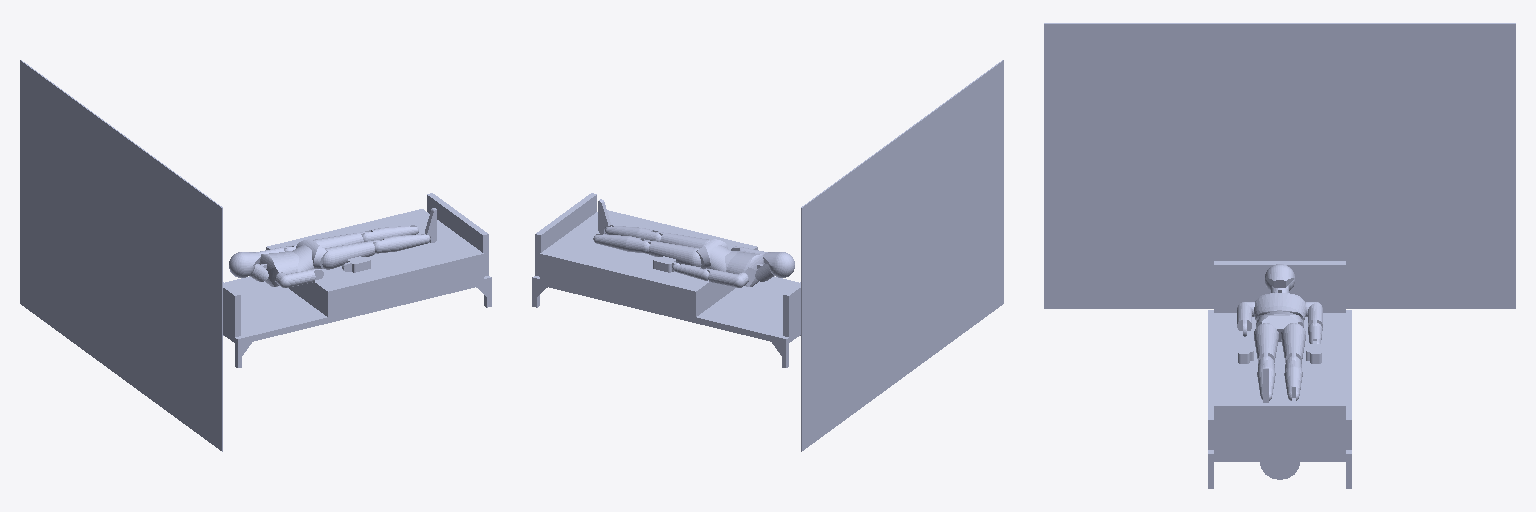
--- Render facts (derived) ---
Views: 3 orthographic renders of the robot side by side, from view 1: azimuth 30°, elevation 25°; view 2: azimuth 150°, elevation 25°; view 3: azimuth 270°, elevation 25°.
Robot: bed_and_body_v3_real_expanded — 26 links, 25 joints (20 revolute, 3 prismatic, 2 fixed); root link base_link; default pose: every joint at zero.
Links seen in each view (by area): view 1: wall_link, bed_frame_link, leg_rest_lower_link, leg_rest_upper_link, quad_right_link, upper_body_link, calf_right_link, head_link, arm_right_link, calf_left_link; view 2: wall_link, bed_frame_link, leg_rest_lower_link, leg_rest_upper_link, upper_body_link, quad_left_link, calf_left_link, head_link, calf_right_link, arm_left_link; view 3: wall_link, bed_frame_link, leg_rest_lower_link, leg_rest_upper_link, upper_body_link, quad_left_link, quad_right_link, calf_left_link, head_link.
Boxes of the visible links, left/top/right/bottom form: wall_link: left=20, top=60, right=222, bottom=451; bed_frame_link: left=223, top=193, right=491, bottom=367; leg_rest_lower_link: left=342, top=209, right=483, bottom=298; leg_rest_upper_link: left=300, top=228, right=403, bottom=308; quad_right_link: left=322, top=240, right=379, bottom=269; upper_body_link: left=259, top=251, right=298, bottom=286; calf_right_link: left=374, top=234, right=430, bottom=253; head_link: left=229, top=252, right=260, bottom=277; arm_right_link: left=275, top=269, right=323, bottom=287; calf_left_link: left=362, top=225, right=418, bottom=241; wall_link: left=801, top=60, right=1003, bottom=451; bed_frame_link: left=532, top=193, right=800, bottom=367; leg_rest_lower_link: left=540, top=210, right=681, bottom=298; leg_rest_upper_link: left=620, top=228, right=723, bottom=308; upper_body_link: left=725, top=251, right=764, bottom=286; quad_left_link: left=644, top=240, right=701, bottom=266; calf_left_link: left=593, top=234, right=649, bottom=253; head_link: left=763, top=252, right=794, bottom=277; calf_right_link: left=605, top=225, right=661, bottom=241; arm_left_link: left=703, top=269, right=748, bottom=287; wall_link: left=1044, top=23, right=1515, bottom=308; bed_frame_link: left=1208, top=261, right=1351, bottom=488; leg_rest_lower_link: left=1208, top=374, right=1351, bottom=449; leg_rest_upper_link: left=1208, top=350, right=1351, bottom=373; upper_body_link: left=1254, top=293, right=1305, bottom=322; quad_left_link: left=1281, top=323, right=1305, bottom=362; quad_right_link: left=1254, top=323, right=1278, bottom=362; calf_left_link: left=1284, top=356, right=1302, bottom=400; head_link: left=1265, top=264, right=1294, bottom=290.
Size in the robot's own frame: 2.92 by 3 by 2 metres.
Meshes: 24 distinct files referenced, 19 mesh visuals loaded (19 binary STL); not drawn: 5 (reference not matched to a file when rendering).

The robot description file, URDF, robot "bed_and_body_v3_real_expanded":
<?xml version="1.0"?>
<robot
  name="bed_and_body_v3_real_expanded">
  <link
    name="base_link">
    <inertial>
      <origin
        xyz="1.07 -1.1433776843867E-16 0.0654891108010717"
        rpy="0 0 0" />
      <mass
        value="5.8260172808288" />
      <inertia
        ixx="1.14927006759014"
        ixy="4.44089209850063E-16"
        ixz="-2.75515108570424E-16"
        iyy="6.70434113225239"
        iyz="-1.34851165646458E-15"
        izz="7.79754704731756" />
    </inertial>
    <visual>
      <origin
        xyz="0 0 0"
        rpy="0 0 0" />
      <geometry>
        <mesh
          filename="package://hrl_base_selection/urdf/bed_and_body_v3_real_expanded/meshes/base_link.STL" />
      </geometry>
      <material
        name="">
        <color
          rgba="0.792156862745098 0.819607843137255 0.933333333333333 1" />
      </material>
    </visual>
    <collision>
      <origin
        xyz="0 0 0"
        rpy="0 0 0" />
      <geometry>
        <mesh
          filename="package://hrl_base_selection/urdf/bed_and_body_v3_real_expanded/meshes/base_link.STL" />
      </geometry>
    </collision>
  </link>
  <link
    name="wall_link">
    <inertial>
      <origin
        xyz="0. 0. 0."
        rpy="0 0 0" />
      <mass
        value="182.783" />
      <inertia
        ixx="14.1727036705024"
        ixy="3.00274731894519E-14"
        ixz="-0.582878793213973"
        iyy="75.8057802285568"
        iyz="9.93663151183257E-16"
        izz="86.6905817538877" />
    </inertial>
    <visual>
      <origin
        xyz="0 0 0"
        rpy="0 0 0" />
      <geometry>
        <mesh
          filename="package://hrl_base_selection/urdf/bed_and_body_v3_real_expanded/meshes/wall.stl" />
      </geometry>
      <material
        name="">
        <color
          rgba="0.792156862745098 0.819607843137255 0.933333333333333 1" />
      </material>
    </visual>
    <collision>
      <origin
        xyz="0 0 0"
        rpy="0 0 0" />
      <geometry>
        <mesh
          filename="package://hrl_base_selection/urdf/bed_and_body_v3_real_expanded/meshes/wall.stl" />
      </geometry>
    </collision>
  </link>
  <joint
    name="origin_wall_joint"
    type="fixed">
    <origin
      xyz="-0.75 0. 0."
      rpy="0 0 0" />
    <parent
      link="base_link" />
    <child
      link="wall_link" />
    <axis
      xyz="0 0 0" />
  </joint>
  <link
    name="bed_frame_link">
    <inertial>
      <origin
        xyz="1.0399 -0.27375 0.088166"
        rpy="0 0 0" />
      <mass
        value="182.783" />
      <inertia
        ixx="14.1727036705024"
        ixy="3.00274731894519E-14"
        ixz="-0.582878793213973"
        iyy="75.8057802285568"
        iyz="9.93663151183257E-16"
        izz="86.6905817538877" />
    </inertial>
    <visual>
      <origin
        xyz="0 0 0"
        rpy="0 0 0" />
      <geometry>
        <mesh
          filename="package://hrl_base_selection/urdf/bed_and_body_v3_real_expanded/meshes/bed_frame_link.STL" />
      </geometry>
      <material
        name="">
        <color
          rgba="0.792156862745098 0.819607843137255 0.933333333333333 1" />
      </material>
    </visual>
    <collision>
      <origin
        xyz="0 0 0"
        rpy="0 0 0" />
      <geometry>
        <mesh
          filename="package://hrl_base_selection/urdf/bed_and_body_v3_real_expanded/meshes/bed_frame_link.STL" />
      </geometry>
    </collision>
  </link>
  <joint
    name="tele_legs_joint"
    type="prismatic">
    <origin
      xyz="-0.02 .27375 0.2805"
      rpy="0 0 0" />
    <parent
      link="base_link" />
    <child
      link="bed_frame_link" />
    <axis
      xyz="0 0 1" />
    <limit
      lower="-1"
      upper="1"
      effort="0"
      velocity="0" />
  </joint>
  <link
    name="head_rest_link">
    <inertial>
      <origin
        xyz="0.372569569871449 -0.0933538492374752 -3.9665323774659E-16"
        rpy="0 0 0" />
      <mass
        value="152.153755040103" />
      <inertia
        ixx="11.3335835372931"
        ixy="0.223420816611719"
        ixz="-1.53371591687193E-15"
        iyy="16.9421346103201"
        iyz="-3.30400962622086E-15"
        izz="7.04456355370477" />
    </inertial>
    <visual>
      <origin
        xyz="0 0 0"
        rpy="0 0 0" />
      <geometry>
        <mesh
          filename="package://hrl_base_selection/urdf/bed_and_body_v3_real_expanded/meshes/head_rest_link.STL" />
      </geometry>
      <material
        name="">
        <color
          rgba="0.792156862745098 0.819607843137255 0.933333333333333 1" />
      </material>
    </visual>
    <collision>
      <origin
        xyz="0 0 0"
        rpy="0 0 0" />
      <geometry>
        <mesh
          filename="package://hrl_base_selection/urdf/bed_and_body_v3_real_expanded/meshes/head_rest_link.STL" />
      </geometry>
    </collision>
  </link>
  <joint
    name="head_rest_hinge"
    type="revolute">
    <origin
      xyz="0.775 -.27375 0.26"
      rpy="1.5708 1.0561E-10 3.1416" />
    <parent
      link="bed_frame_link" />
    <child
      link="head_rest_link" />
    <axis
      xyz="0 0 1" />
    <limit
      lower="-2"
      upper="2"
      effort="0"
      velocity="0" />
  </joint>
  <link
    name="head_updown_translation_link">
    <inertial>
      <origin
        xyz="0.102906766161206 -9.91266292424373E-09 -0.0297782124304694"
        rpy="0 0 0" />
      <mass
        value="3.9328527892651" />
      <inertia
        ixx="0.0179544834914724"
        ixy="-5.43457600009831E-10"
        ixz="-0.00240657860486129"
        iyy="0.0177023015774365"
        iyz="-5.46748238349167E-09"
        izz="0.0152180232656692" />
    </inertial>
  </link>
  <joint
    name="head_bed_updown_joint"
    type="prismatic">
    <origin
      xyz="0.49949 0.05 0"
      rpy="1.5708 -2.9674E-16 1.5708" />
    <parent
      link="head_rest_link" />
    <child
      link="head_updown_translation_link" />
    <axis
      xyz="0 0 -1" />
    <limit
      lower="-2"
      upper="2"
      effort="0"
      velocity="0" />
  </joint>
  <link
    name="head_leftright_translation_link">
    <inertial>
      <origin
        xyz="0.102906766161206 0.0297782124304694 -9.912662920814E-09"
        rpy="0 0 0" />
      <mass
        value="3.9328527892651" />
      <inertia
        ixx="0.0179544834914724"
        ixy="0.00240657860486129"
        ixz="-5.43457600415785E-10"
        iyy="0.0152180232656692"
        iyz="5.46748238053038E-09"
        izz="0.0177023015774365" />
    </inertial>
  </link>
  <joint
    name="head_bed_leftright_joint"
    type="prismatic">
    <origin
      xyz="0 0 0"
      rpy="-1.5708 -1.0548E-16 7.5835E-18" />
    <parent
      link="head_updown_translation_link" />
    <child
      link="head_leftright_translation_link" />
    <axis
      xyz="0 0 1" />
    <limit
      lower="-2"
      upper="2"
      effort="0"
      velocity="0" />
  </joint>
  <link
    name="head_link">
    <inertial>
      <origin
        xyz="0.00931747164111318 -9.91266701204326E-09 0.0105706865051194"
        rpy="0 0 0" />
      <mass
        value="3.9328527892651" />
      <inertia
        ixx="0.0165678861121358"
        ixy="8.90148620513218E-10"
        ixz="-0.0027682732644648"
        iyy="0.0177023015774365"
        iyz="-5.42183952528328E-09"
        izz="0.0166046206450058" />
    </inertial>
    <visual>
      <origin
        xyz="0 0 0"
        rpy="0 0 0" />
      <geometry>
        <mesh
          filename="package://hrl_base_selection/urdf/bed_and_body_v3_real_expanded/meshes/head_link.STL" />
      </geometry>
      <material
        name="">
        <color
          rgba="0.792156862745098 0.819607843137255 0.933333333333333 1" />
      </material>
    </visual>
    <collision>
      <origin
        xyz="0 0 0"
        rpy="0 0 0" />
      <geometry>
        <mesh
          filename="package://hrl_base_selection/urdf/bed_and_body_v3_real_expanded/meshes/head_link.STL" />
      </geometry>
    </collision>
  </link>
  <joint
    name="head_contact_to_head_center"
    type="fixed">
    <origin
      xyz="0.091171 0.037577 0"
      rpy="1.5708 -3.0499E-16 0.2618" />
    <parent
      link="head_leftright_translation_link" />
    <child
      link="head_link" />
    <axis
      xyz="0 0 0" />
  </joint>
  <link
    name="neck_rotation">
    <inertial>
      <origin
        xyz="0.0299911113671753 -1.13479703411912E-09 5.25989263663437E-09"
        rpy="0 0 0" />
      <mass
        value="1.53148702191926" />
      <inertia
        ixx="0.00269322706497261"
        ixy="1.09857620830128E-10"
        ixz="7.58048241070777E-10"
        iyy="0.00564516811473134"
        iyz="9.21844170034423E-09"
        izz="0.00511128582091916" />
    </inertial>
    <visual>
      <origin
        xyz="0 0 0"
        rpy="0 0 0" />
      <geometry>
        <mesh
          filename="package://hrl_base_selection/urdf/bed_and_body_v3_real_expanded/meshes/neck_rotation.STL" />
      </geometry>
      <material
        name="">
        <color
          rgba="0.792156862745098 0.819607843137255 0.933333333333333 1" />
      </material>
    </visual>
    <collision>
      <origin
        xyz="0 0 0"
        rpy="0 0 0" />
      <geometry>
        <mesh
          filename="package://hrl_base_selection/urdf/bed_and_body_v3_real_expanded/meshes/neck_rotation.STL" />
      </geometry>
    </collision>
  </link>
  <joint
    name="head_neck_joint1"
    type="revolute">
    <origin
      xyz="-0.0254 0 -0.08509"
      rpy="-1.5708 1.1345 -3.1416" />
    <parent
      link="head_link" />
    <child
      link="neck_rotation" />
    <axis
      xyz="0 0 1" />
    <limit
      lower="-2"
      upper="2"
      effort="0"
      velocity="0" />
  </joint>
  <link
    name="neck_link">
    <inertial>
      <origin
        xyz="0.0299911113671752 -1.13479703411912E-09 5.2598925958448E-09"
        rpy="0 0 0" />
      <mass
        value="1.53148702191926" />
      <inertia
        ixx="0.00269322706497261"
        ixy="1.09857618011203E-10"
        ixz="7.58048239319453E-10"
        iyy="0.00564516811473135"
        iyz="9.2184417026311E-09"
        izz="0.00511128582091917" />
    </inertial>
    <visual>
      <origin
        xyz="0 0 0"
        rpy="0 0 0" />
      <geometry>
        <mesh
          filename="package://hrl_base_selection/urdf/bed_and_body_v3_real_expanded/meshes/neck_link.STL" />
      </geometry>
      <material
        name="">
        <color
          rgba="0.792156862745098 0.819607843137255 0.933333333333333 1" />
      </material>
    </visual>
    <collision>
      <origin
        xyz="0 0 0"
        rpy="0 0 0" />
      <geometry>
        <mesh
          filename="package://hrl_base_selection/urdf/bed_and_body_v3_real_expanded/meshes/neck_link.STL" />
      </geometry>
    </collision>
  </link>
  <joint
    name="head_neck_joint2"
    type="revolute">
    <origin
      xyz="0 0 0"
      rpy="0 3.1554E-30 0" />
    <parent
      link="neck_rotation" />
    <child
      link="neck_link" />
    <axis
      xyz="0 0 1" />
    <limit
      lower="-2"
      upper="2"
      effort="0"
      velocity="0" />
  </joint>
  <link
    name="upper_body_link">
    <inertial>
      <origin
        xyz="0.158709266111028 -2.77439784790445E-06 1.07349517852832E-06"
        rpy="0 0 0" />
      <mass
        value="10.994324812456" />
      <inertia
        ixx="0.0988263493770442"
        ixy="1.38503182626169E-06"
        ixz="-6.9051458787949E-07"
        iyy="0.107887273916327"
        iyz="1.87457468166473E-07"
        izz="0.0771158536159493" />
    </inertial>
    <visual>
      <origin
        xyz="0 0 0"
        rpy="0 0 0" />
      <geometry>
        <mesh
          filename="package://hrl_base_selection/urdf/bed_and_body_v3_real_expanded/meshes/upper_body_link.STL" />
      </geometry>
      <material
        name="">
        <color
          rgba="0.792156862745098 0.819607843137255 0.933333333333333 1" />
      </material>
    </visual>
    <collision>
      <origin
        xyz="0 0 0"
        rpy="0 0 0" />
      <geometry>
        <mesh
          filename="package://hrl_base_selection/urdf/bed_and_body_v3_real_expanded/meshes/upper_body_link.STL" />
      </geometry>
    </collision>
  </link>
  <joint
    name="neck_body_joint"
    type="revolute">
    <origin
      xyz="0.07239 0 0"
      rpy="-8.8242E-17 -8.2927E-14 0.66506" />
    <parent
      link="neck_link" />
    <child
      link="upper_body_link" />
    <axis
      xyz="0 0 -1" />
    <limit
      lower="-2"
      upper="2"
      effort="0"
      velocity="0" />
  </joint>
  <link
    name="mid_body_link">
    <inertial>
      <origin
        xyz="-0.0123598486303793 -2.47973091949127E-07 4.77082923404006E-06"
        rpy="0 0 0" />
      <mass
        value="6.7659491084038" />
      <inertia
        ixx="0.0508733259634872"
        ixy="-3.30920427328747E-07"
        ixz="-1.38996093328425E-06"
        iyy="0.0489774373986986"
        iyz="-1.12269337166179E-05"
        izz="0.0317417004953391" />
    </inertial>
    <visual>
      <origin
        xyz="0 0 0"
        rpy="0 0 0" />
      <geometry>
        <mesh
          filename="package://hrl_base_selection/urdf/bed_and_body_v3_real_expanded/meshes/mid_body_link.STL" />
      </geometry>
      <material
        name="">
        <color
          rgba="0.792156862745098 0.819607843137255 0.933333333333333 1" />
      </material>
    </visual>
    <collision>
      <origin
        xyz="0 0 0"
        rpy="0 0 0" />
      <geometry>
        <mesh
          filename="package://hrl_base_selection/urdf/bed_and_body_v3_real_expanded/meshes/mid_body_link.STL" />
      </geometry>
    </collision>
  </link>
  <joint
    name="upper_mid_body_joint"
    type="revolute">
    <origin
      xyz="0.35052 0 0"
      rpy="2.8327E-14 7.7949E-14 0.34907" />
    <parent
      link="upper_body_link" />
    <child
      link="mid_body_link" />
    <axis
      xyz="0 0 -1" />
    <limit
      lower="-2"
      upper="2"
      effort="0"
      velocity="0" />
  </joint>
  <link
    name="lower_body_link">
    <inertial>
      <origin
        xyz="-0.0424892964347593 -1.55212564689755E-07 -3.05517167826124E-08"
        rpy="0 0 0" />
      <mass
        value="3.76095443118537" />
      <inertia
        ixx="0.0264188029132303"
        ixy="5.26534020954018E-07"
        ixz="1.13275130192356E-08"
        iyy="0.021880217675706"
        iyz="6.6476429005472E-06"
        izz="0.0115760285735275" />
    </inertial>
    <visual>
      <origin
        xyz="0 0 0"
        rpy="0 0 0" />
      <geometry>
        <mesh
          filename="package://hrl_base_selection/urdf/bed_and_body_v3_real_expanded/meshes/lower_body_link.STL" />
      </geometry>
      <material
        name="">
        <color
          rgba="0.792156862745098 0.819607843137255 0.933333333333333 1" />
      </material>
    </visual>
    <collision>
      <origin
        xyz="0 0 0"
        rpy="0 0 0" />
      <geometry>
        <mesh
          filename="package://hrl_base_selection/urdf/bed_and_body_v3_real_expanded/meshes/lower_body_link.STL" />
      </geometry>
    </collision>
  </link>
  <joint
    name="mid_lower_body_joint"
    type="revolute">
    <origin
      xyz="0.15113 0 0"
      rpy="-4.3091E-16 1.669E-15 -0.57779" />
    <parent
      link="mid_body_link" />
    <child
      link="lower_body_link" />
    <axis
      xyz="0 0 -1" />
    <limit
      lower="-2"
      upper="2"
      effort="0"
      velocity="0" />
  </joint>
  <link
    name="quad_left_link">
    <inertial>
      <origin
        xyz="0.135870836223123 0.036406480838746 1.20320420293751E-14"
        rpy="0 0 0" />
      <mass
        value="6.89674952703915" />
      <inertia
        ixx="0.0241142535313263"
        ixy="0.0272592576621165"
        ixz="-8.25751406148771E-11"
        iyy="0.118543092031703"
        iyz="3.08210707771496E-10"
        izz="0.126021276865764" />
    </inertial>
    <visual>
      <origin
        xyz="0 0 0"
        rpy="0 0 0" />
      <geometry>
        <mesh
          filename="package://hrl_base_selection/urdf/bed_and_body_v3_real_expanded/meshes/quad_left_link.STL" />
      </geometry>
      <material
        name="">
        <color
          rgba="0.792156862745098 0.819607843137255 0.933333333333333 1" />
      </material>
    </visual>
    <collision>
      <origin
        xyz="0 0 0"
        rpy="0 0 0" />
      <geometry>
        <mesh
          filename="package://hrl_base_selection/urdf/bed_and_body_v3_real_expanded/meshes/quad_left_link.STL" />
      </geometry>
    </collision>
  </link>
  <joint
    name="body_quad_left_joint"
    type="revolute">
    <origin
      xyz="0.05207 0 -0.08636"
      rpy="-3.1554E-30 -3.1554E-30 -2.7756E-17" />
    <parent
      link="lower_body_link" />
    <child
      link="quad_left_link" />
    <axis
      xyz="0 0 1" />
    <limit
      lower="-3."
      upper="3."
      effort="0"
      velocity="0" />
  </joint>
  <link
    name="calf_left_link">
    <inertial>
      <origin
        xyz="-0.180906642816524 -0.0139713255979246 1.60067792354113E-12"
        rpy="0 0 0" />
      <mass
        value="3.39536669784164" />
      <inertia
        ixx="0.0049226177583511"
        ixy="0.00333413184068126"
        ixz="1.26232091450053E-12"
        iyy="0.0478368760783845"
        iyz="-4.13932285075363E-12"
        izz="0.0478732548846709" />
    </inertial>
    <visual>
      <origin
        xyz="0 0 0"
        rpy="0 0 0" />
      <geometry>
        <mesh
          filename="package://hrl_base_selection/urdf/bed_and_body_v3_real_expanded/meshes/calf_left_link.STL" />
      </geometry>
      <material
        name="">
        <color
          rgba="0.792156862745098 0.819607843137255 0.933333333333333 1" />
      </material>
    </visual>
    <collision>
      <origin
        xyz="0 0 0"
        rpy="0 0 0" />
      <geometry>
        <mesh
          filename="package://hrl_base_selection/urdf/bed_and_body_v3_real_expanded/meshes/calf_left_link.STL" />
      </geometry>
    </collision>
  </link>
  <joint
    name="quad_calf_left_joint"
    type="revolute">
    <origin
      xyz="0.41218 0.11044 0"
      rpy="3.1416 8.5469E-14 -2.8798" />
    <parent
      link="quad_left_link" />
    <child
      link="calf_left_link" />
    <axis
      xyz="0 0 1" />
    <limit
      lower="-3."
      upper="3."
      effort="0"
      velocity="0" />
  </joint>
  <link
    name="foot_left_link">
    <inertial>
      <origin
        xyz="-0.0475610965067932 0.0816676483447464 -4.16333634234434E-17"
        rpy="0 0 0" />
      <mass
        value="0.615189243278472" />
      <inertia
        ixx="0.00304936402573348"
        ixy="-0.000154899374275574"
        ixz="1.7446046542978E-19"
        iyy="0.000412328810634253"
        iyz="-3.97105362266834E-20"
        izz="0.00332455031530266" />
    </inertial>
    <visual>
      <origin
        xyz="0 0 0"
        rpy="0 0 0" />
      <geometry>
        <mesh
          filename="package://hrl_base_selection/urdf/bed_and_body_v3_real_expanded/meshes/foot_left_link.STL" />
      </geometry>
      <material
        name="">
        <color
          rgba="0.792156862745098 0.819607843137255 0.933333333333333 1" />
      </material>
    </visual>
    <collision>
      <origin
        xyz="0 0 0"
        rpy="0 0 0" />
      <geometry>
        <mesh
          filename="package://hrl_base_selection/urdf/bed_and_body_v3_real_expanded/meshes/foot_left_link.STL" />
      </geometry>
    </collision>
  </link>
  <joint
    name="calf_foot_left_joint"
    type="revolute">
    <origin
      xyz="-0.41279 -0.03188 0"
      rpy="2.4608E-16 9.411E-16 0.077076" />
    <parent
      link="calf_left_link" />
    <child
      link="foot_left_link" />
    <axis
      xyz="0 0 1" />
    <limit
      lower="-3."
      upper="3."
      effort="0"
      velocity="0" />
  </joint>
  <link
    name="quad_right_link">
    <inertial>
      <origin
        xyz="0.13587083622245 0.0364064808391208 1.19904086659517E-14"
        rpy="0 0 0" />
      <mass
        value="6.89674952703915" />
      <inertia
        ixx="0.024114253531194"
        ixy="0.0272592576618873"
        ixz="-8.2575179988774E-11"
        iyy="0.118543092031835"
        iyz="3.08210697239393E-10"
        izz="0.126021276865764" />
    </inertial>
    <visual>
      <origin
        xyz="0 0 0"
        rpy="0 0 0" />
      <geometry>
        <mesh
          filename="package://hrl_base_selection/urdf/bed_and_body_v3_real_expanded/meshes/quad_right_link.STL" />
      </geometry>
      <material
        name="">
        <color
          rgba="0.792156862745098 0.819607843137255 0.933333333333333 1" />
      </material>
    </visual>
    <collision>
      <origin
        xyz="0 0 0"
        rpy="0 0 0" />
      <geometry>
        <mesh
          filename="package://hrl_base_selection/urdf/bed_and_body_v3_real_expanded/meshes/quad_right_link.STL" />
      </geometry>
    </collision>
  </link>
  <joint
    name="body_quad_right_joint"
    type="revolute">
    <origin
      xyz="0.05207 0 0.08636"
      rpy="-3.1554E-30 -3.1554E-30 -2.7756E-17" />
    <parent
      link="lower_body_link" />
    <child
      link="quad_right_link" />
    <axis
      xyz="0 0 1" />
    <limit
      lower="-3"
      upper="3"
      effort="0"
      velocity="0" />
  </joint>
  <link
    name="calf_right_link">
    <inertial>
      <origin
        xyz="-0.180906642816537 -0.0139713255970793 1.60067792354113E-12"
        rpy="0 0 0" />
      <mass
        value="3.39536669784164" />
      <inertia
        ixx="0.00492261775832246"
        ixy="0.00333413184049699"
        ixz="1.26236389002121E-12"
        iyy="0.0478368760784132"
        iyz="-4.13931941107381E-12"
        izz="0.0478732548846708" />
    </inertial>
    <visual>
      <origin
        xyz="0 0 0"
        rpy="0 0 0" />
      <geometry>
        <mesh
          filename="package://hrl_base_selection/urdf/bed_and_body_v3_real_expanded/meshes/calf_right_link.STL" />
      </geometry>
      <material
        name="">
        <color
          rgba="0.792156862745098 0.819607843137255 0.933333333333333 1" />
      </material>
    </visual>
    <collision>
      <origin
        xyz="0 0 0"
        rpy="0 0 0" />
      <geometry>
        <mesh
          filename="package://hrl_base_selection/urdf/bed_and_body_v3_real_expanded/meshes/calf_right_link.STL" />
      </geometry>
    </collision>
  </link>
  <joint
    name="quad_calf_right_joint"
    type="revolute">
    <origin
      xyz="0.41218 0.11044 0"
      rpy="3.1416 8.5225E-14 -2.8798" />
    <parent
      link="quad_right_link" />
    <child
      link="calf_right_link" />
    <axis
      xyz="0 0 1" />
    <limit
      lower="-3"
      upper="3"
      effort="0"
      velocity="0" />
  </joint>
  <link
    name="foot_right_link">
    <inertial>
      <origin
        xyz="-0.0475610965067859 0.0816676483447651 1.38777878078145E-17"
        rpy="0 0 0" />
      <mass
        value="0.615189243278473" />
      <inertia
        ixx="0.00304936402573348"
        ixy="-0.000154899374275576"
        ixz="-2.68019252719947E-19"
        iyy="0.000412328810634254"
        iyz="3.53080400658611E-18"
        izz="0.00332455031530267" />
    </inertial>
    <visual>
      <origin
        xyz="0 0 0"
        rpy="0 0 0" />
      <geometry>
        <mesh
          filename="package://hrl_base_selection/urdf/bed_and_body_v3_real_expanded/meshes/foot_right_link.STL" />
      </geometry>
      <material
        name="">
        <color
          rgba="0.792156862745098 0.819607843137255 0.933333333333333 1" />
      </material>
    </visual>
    <collision>
      <origin
        xyz="0 0 0"
        rpy="0 0 0" />
      <geometry>
        <mesh
          filename="package://hrl_base_selection/urdf/bed_and_body_v3_real_expanded/meshes/foot_right_link.STL" />
      </geometry>
    </collision>
  </link>
  <joint
    name="calf_foot_right_joint"
    type="revolute">
    <origin
      xyz="-0.41279 -0.03188 0"
      rpy="3.3137E-27 3.7799E-26 0.077076" />
    <parent
      link="calf_right_link" />
    <child
      link="foot_right_link" />
    <axis
      xyz="0 0 1" />
    <limit
      lower="-3"
      upper="3"
      effort="0"
      velocity="0" />
  </joint>
  <link
    name="arm_left_link">
    <inertial>
      <origin
        xyz="0.1001623892808 -0.00376860746206564 -0.0415301013139193"
        rpy="0 0 0" />
      <mass
        value="2.60960654017703" />
      <inertia
        ixx="0.00404950781774846"
        ixy="-0.000794518553713614"
        ixz="-0.00213077537777598"
        iyy="0.0251366223518226"
        iyz="8.01649819245336E-05"
        izz="0.0243099855919405" />
    </inertial>
    <visual>
      <origin
        xyz="0 0 0"
        rpy="0 0 0" />
      <geometry>
        <mesh
          filename="package://hrl_base_selection/urdf/bed_and_body_v3_real_expanded/meshes/arm_left_link.STL" />
      </geometry>
      <material
        name="">
        <color
          rgba="0.792156862745098 0.819607843137255 0.933333333333333 1" />
      </material>
    </visual>
    <collision>
      <origin
        xyz="0 0 0"
        rpy="0 0 0" />
      <geometry>
        <mesh
          filename="package://hrl_base_selection/urdf/bed_and_body_v3_real_expanded/meshes/arm_left_link.STL" />
      </geometry>
    </collision>
  </link>
  <joint
    name="body_arm_left_joint"
    type="revolute">
    <origin
      xyz="0.09652 0 -0.17526"
      rpy="2.6872E-15 8.287E-14 0.033074" />
    <parent
      link="upper_body_link" />
    <child
      link="arm_left_link" />
    <axis
      xyz="0 0 1" />
    <limit
      lower="-3"
      upper="3"
      effort="0"
      velocity="0" />
  </joint>
  <link
    name="forearm_left_link">
    <inertial>
      <origin
        xyz="0.106228215345525 -1.91191507070698E-12 0"
        rpy="0 0 0" />
      <mass
        value="1.32173737819403" />
      <inertia
        ixx="0.00119534139517087"
        ixy="-1.35159335608086E-13"
        ixz="-5.04149881322934E-19"
        iyy="0.00870475374464507"
        iyz="1.19370114943691E-09"
        izz="0.00856399030741715" />
    </inertial>
    <visual>
      <origin
        xyz="0 0 0"
        rpy="0 0 0" />
      <geometry>
        <mesh
          filename="package://hrl_base_selection/urdf/bed_and_body_v3_real_expanded/meshes/forearm_left_link.STL" />
      </geometry>
      <material
        name="">
        <color
          rgba="0.792156862745098 0.819607843137255 0.933333333333333 1" />
      </material>
    </visual>
    <collision>
      <origin
        xyz="0 0 0"
        rpy="0 0 0" />
      <geometry>
        <mesh
          filename="package://hrl_base_selection/urdf/bed_and_body_v3_real_expanded/meshes/forearm_left_link.STL" />
      </geometry>
    </collision>
  </link>
  <joint
    name="arm_forearm_left_joint"
    type="revolute">
    <origin
      xyz="0.28174 -0.0106 -0.04953"
      rpy="1.1849E-16 -8.3419E-14 -1.6268E-27" />
    <parent
      link="arm_left_link" />
    <child
      link="forearm_left_link" />
    <axis
      xyz="0 0 1" />
    <limit
      lower="-3"
      upper="3"
      effort="0"
      velocity="0" />
  </joint>
  <link
    name="hand_left_link">
    <inertial>
      <origin
        xyz="0.0980143408405634 -1.86517468137026E-12 0.0049795365316434"
        rpy="0 0 0" />
      <mass
        value="1.1356241768054" />
      <inertia
        ixx="0.00131058345181311"
        ixy="-4.85702000140823E-14"
        ixz="-9.6566899557011E-05"
        iyy="0.00386297813592635"
        iyz="1.8376914107142E-15"
        izz="0.00343338240819095" />
    </inertial>
    <visual>
      <origin
        xyz="0 0 0"
        rpy="0 0 0" />
      <geometry>
        <mesh
          filename="package://hrl_base_selection/urdf/bed_and_body_v3_real_expanded/meshes/hand_left_link.STL" />
      </geometry>
      <material
        name="">
        <color
          rgba="0.792156862745098 0.819607843137255 0.933333333333333 1" />
      </material>
    </visual>
    <collision>
      <origin
        xyz="0 0 0"
        rpy="0 0 0" />
      <geometry>
        <mesh
          filename="package://hrl_base_selection/urdf/bed_and_body_v3_real_expanded/meshes/hand_left_link.STL" />
      </geometry>
    </collision>
  </link>
  <joint
    name="forearm_hand_left_joint"
    type="revolute">
    <origin
      xyz="0.25146 0 0"
      rpy="1.3447E-16 8.3999E-14 1.6283E-27" />
    <parent
      link="forearm_left_link" />
    <child
      link="hand_left_link" />
    <axis
      xyz="0 0 1" />
    <limit
      lower="-3"
      upper="3"
      effort="0"
      velocity="0" />
  </joint>
  <link
    name="arm_right_link">
    <inertial>
      <origin
        xyz="0.100233262071747 3.52074113196821E-08 0.041530101413327"
        rpy="0 0 0" />
      <mass
        value="2.60960651501635" />
      <inertia
        ixx="0.00401961437786645"
        ixy="-7.60885930854E-10"
        ixz="0.00213228273829607"
        iyy="0.0251665155968144"
        iyz="-4.35824513311461E-09"
        izz="0.0243099854332681" />
    </inertial>
    <visual>
      <origin
        xyz="0 0 0"
        rpy="0 0 0" />
      <geometry>
        <mesh
          filename="package://hrl_base_selection/urdf/bed_and_body_v3_real_expanded/meshes/arm_right_link.STL" />
      </geometry>
      <material
        name="">
        <color
          rgba="0.792156862745098 0.819607843137255 0.933333333333333 1" />
      </material>
    </visual>
    <collision>
      <origin
        xyz="0 0 0"
        rpy="0 0 0" />
      <geometry>
        <mesh
          filename="package://hrl_base_selection/urdf/bed_and_body_v3_real_expanded/meshes/arm_right_link.STL" />
      </geometry>
    </collision>
  </link>
  <joint
    name="body_arm_right_joint"
    type="revolute">
    <origin
      xyz="0.09652 0 0.17526"
      rpy="-3.0757E-16 8.2843E-14 -0.0045332" />
    <parent
      link="upper_body_link" />
    <child
      link="arm_right_link" />
    <axis
      xyz="0 0 1" />
    <limit
      lower="-3"
      upper="3"
      effort="0"
      velocity="0" />
  </joint>
  <link
    name="forearm_right_link">
    <inertial>
      <origin
        xyz="0.106228216482346 -1.30587407554117E-09 -9.51088152678636E-10"
        rpy="0 0 0" />
      <mass
        value="1.32173736893606" />
      <inertia
        ixx="0.00119534120618663"
        ixy="1.414727832101E-10"
        ixz="1.35038570191339E-10"
        iyy="0.00870475371023631"
        iyz="1.17395654858625E-09"
        izz="0.00856399012619121" />
    </inertial>
    <visual>
      <origin
        xyz="0 0 0"
        rpy="0 0 0" />
      <geometry>
        <mesh
          filename="package://hrl_base_selection/urdf/bed_and_body_v3_real_expanded/meshes/forearm_right_link.STL" />
      </geometry>
      <material
        name="">
        <color
          rgba="0.792156862745098 0.819607843137255 0.933333333333333 1" />
      </material>
    </visual>
    <collision>
      <origin
        xyz="0 0 0"
        rpy="0 0 0" />
      <geometry>
        <mesh
          filename="package://hrl_base_selection/urdf/bed_and_body_v3_real_expanded/meshes/forearm_right_link.STL" />
      </geometry>
    </collision>
  </link>
  <joint
    name="arm_forearm_right_joint"
    type="revolute">
    <origin
      xyz="0.28194 0 0.04953"
      rpy="2.6089E-19 -8.3342E-14 0.037607" />
    <parent
      link="arm_right_link" />
    <child
      link="forearm_right_link" />
    <axis
      xyz="0 0 1" />
    <limit
      lower="-3"
      upper="3"
      effort="0"
      velocity="0" />
  </joint>
  <link
    name="hand_right_link">
    <inertial>
      <origin
        xyz="0.0980143408405629 -2.15505391309989E-12 -0.00497953653164337"
        rpy="0 0 0" />
      <mass
        value="1.13562417680541" />
      <inertia
        ixx="0.00131058345181312"
        ixy="-5.61198127715408E-14"
        ixz="9.65668995570131E-05"
        iyy="0.00386297813592636"
        iyz="-2.12313391417147E-15"
        izz="0.00343338240819096" />
    </inertial>
    <visual>
      <origin
        xyz="0 0 0"
        rpy="0 0 0" />
      <geometry>
        <mesh
          filename="package://hrl_base_selection/urdf/bed_and_body_v3_real_expanded/meshes/hand_right_link.STL" />
      </geometry>
      <material
        name="">
        <color
          rgba="0.792156862745098 0.819607843137255 0.933333333333333 1" />
      </material>
    </visual>
    <collision>
      <origin
        xyz="0 0 0"
        rpy="0 0 0" />
      <geometry>
        <mesh
          filename="package://hrl_base_selection/urdf/bed_and_body_v3_real_expanded/meshes/hand_right_link.STL" />
      </geometry>
    </collision>
  </link>
  <joint
    name="forearm_hand_right_joint"
    type="revolute">
    <origin
      xyz="0.25146 0 0"
      rpy="1.9364E-14 8.3335E-14 1.6151E-27" />
    <parent
      link="forearm_right_link" />
    <child
      link="hand_right_link" />
    <axis
      xyz="0 0 1" />
    <limit
      lower="-3"
      upper="3"
      effort="0"
      velocity="0" />
  </joint>
  <link
    name="leg_rest_upper_link">
    <inertial>
      <origin
        xyz="0.184999999999909 0.105000000000441 -2.76269761501025E-16"
        rpy="0 0 0" />
      <mass
        value="71.0955" />
      <inertia
        ixx="5.221520128125"
        ixy="-6.98374142907244E-13"
        ixz="-6.34687481067045E-16"
        iyy="5.771325328125"
        iyz="-1.36920550145777E-16"
        izz="1.072357125" />
    </inertial>
    <visual>
      <origin
        xyz="0 0 0"
        rpy="0 0 0" />
      <geometry>
        <mesh
          filename="package://hrl_base_selection/urdf/bed_and_body_v3_real_expanded/meshes/leg_rest_upper_link.STL" />
      </geometry>
      <material
        name="">
        <color
          rgba="0.792156862745098 0.819607843137255 0.933333333333333 1" />
      </material>
    </visual>
    <collision>
      <origin
        xyz="0 0 0"
        rpy="0 0 0" />
      <geometry>
        <mesh
          filename="package://hrl_base_selection/urdf/bed_and_body_v3_real_expanded/meshes/leg_rest_upper_link.STL" />
      </geometry>
    </collision>
  </link>
  <joint
    name="leg_rest_upper_joint"
    type="revolute">
    <origin
      xyz="1.055 -0.27375 0.05"
      rpy="1.5708 2.1987E-11 3.9465E-16" />
    <parent
      link="bed_frame_link" />
    <child
      link="leg_rest_upper_link" />
    <axis
      xyz="0 0 1" />
    <limit
      lower="-3"
      upper="3"
      effort="0"
      velocity="0" />
  </joint>
  <link
    name="leg_rest_lower_link">
    <inertial>
      <origin
        xyz="0.345000000000193 0.10499999999918 -5.70451144183548E-17"
        rpy="0 0 0" />
      <mass
        value="132.5835" />
      <inertia
        ixx="9.73742942812501"
        ixy="9.56539519154387E-17"
        ixz="2.44106387255003E-16"
        iyy="14.510435428125"
        iyz="1.11598435800825E-16"
        izz="5.747494725" />
    </inertial>
    <visual>
      <origin
        xyz="0 0 0"
        rpy="0 0 0" />
      <geometry>
        <mesh
          filename="package://hrl_base_selection/urdf/bed_and_body_v3_real_expanded/meshes/leg_rest_lower_link.STL" />
      </geometry>
      <material
        name="">
        <color
          rgba="0.792156862745098 0.819607843137255 0.933333333333333 1" />
      </material>
    </visual>
    <collision>
      <origin
        xyz="0 0 0"
        rpy="0 0 0" />
      <geometry>
        <mesh
          filename="package://hrl_base_selection/urdf/bed_and_body_v3_real_expanded/meshes/leg_rest_lower_link.STL" />
      </geometry>
    </collision>
  </link>
  <joint
    name="leg_rest_upper_lower_joint"
    type="revolute">
    <origin
      xyz="0.37 0 0"
      rpy="-3.7123E-16 5.9121E-16 3.7854E-11" />
    <parent
      link="leg_rest_upper_link" />
    <child
      link="leg_rest_lower_link" />
    <axis
      xyz="0 0 1" />
    <limit
      lower="-3"
      upper="3"
      effort="0"
      velocity="0" />
  </joint>
</robot>
